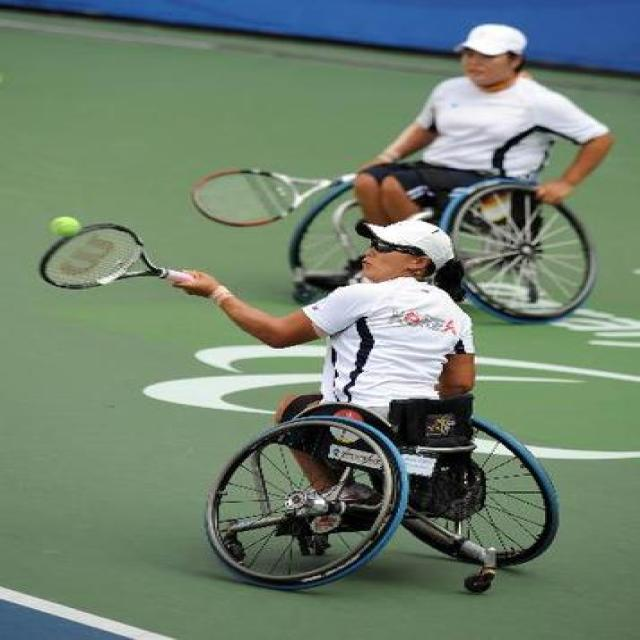wheelchairs: (174, 360, 587, 608), (264, 154, 617, 328)
